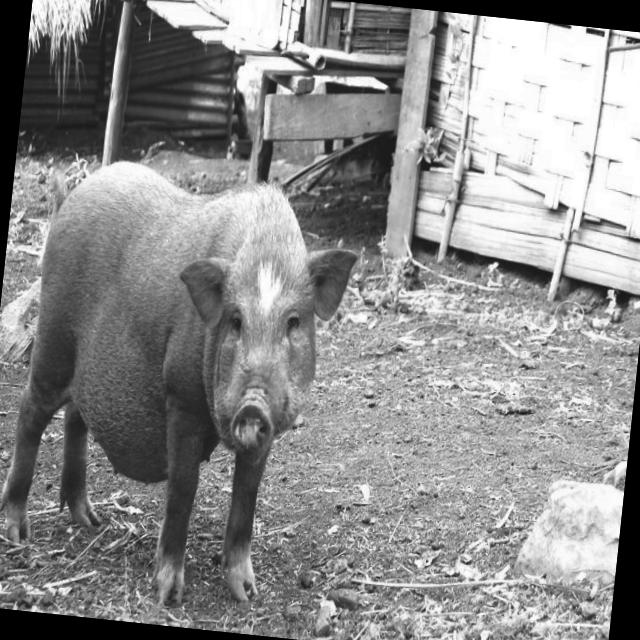pig: (3, 162, 356, 602)
